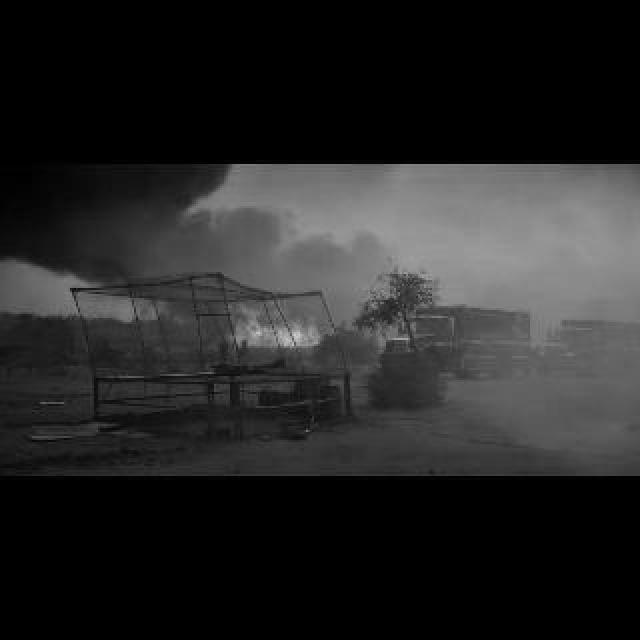smoke: (0, 161, 402, 318)
zfire: (218, 292, 332, 350)
